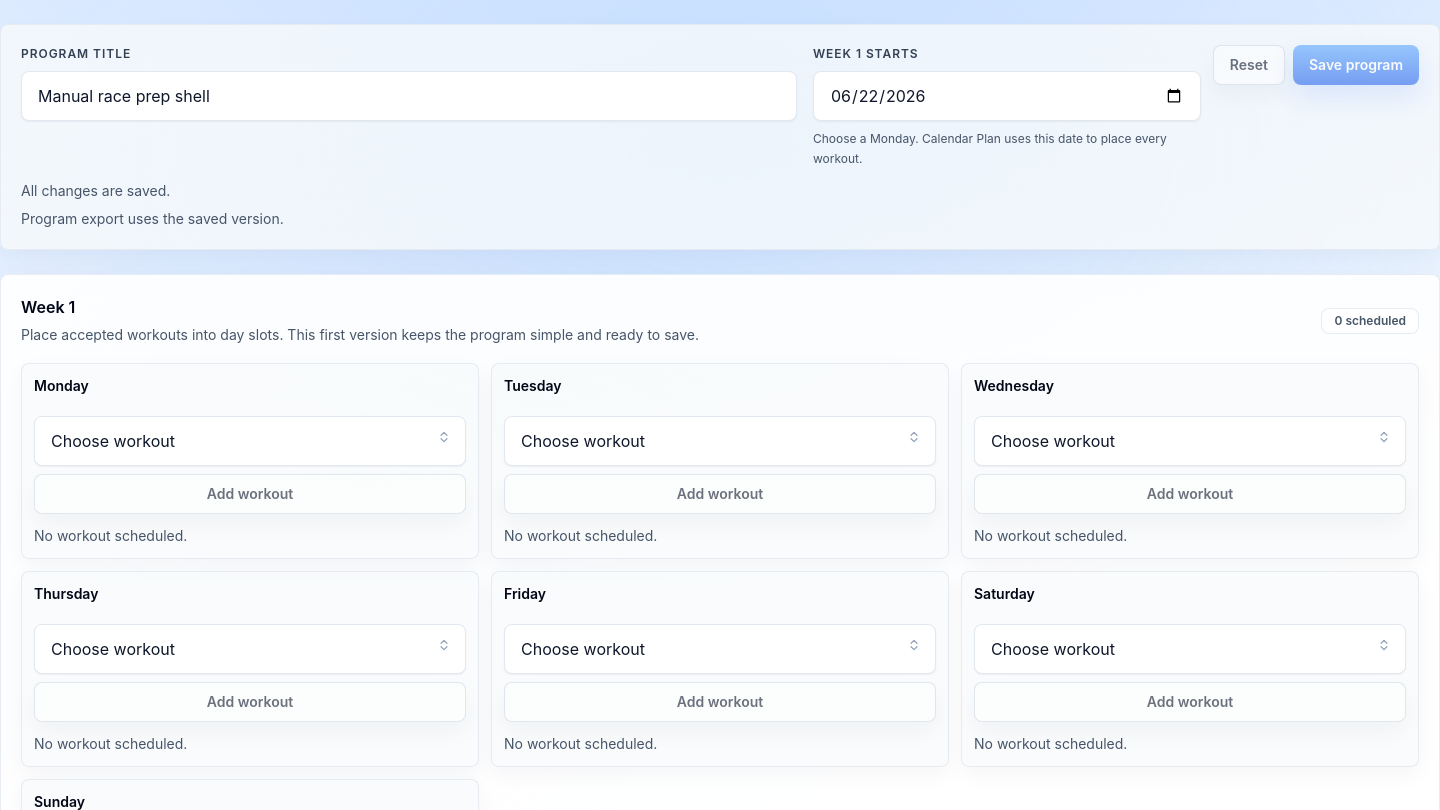
it: ProgramBuilderHub › announces program save failures without changing the save payload
Step 1. Replace the text in the field with test id "program-draft-title" with "Unsaved race prep shell" → (409, 96), box [21,71,797,121]
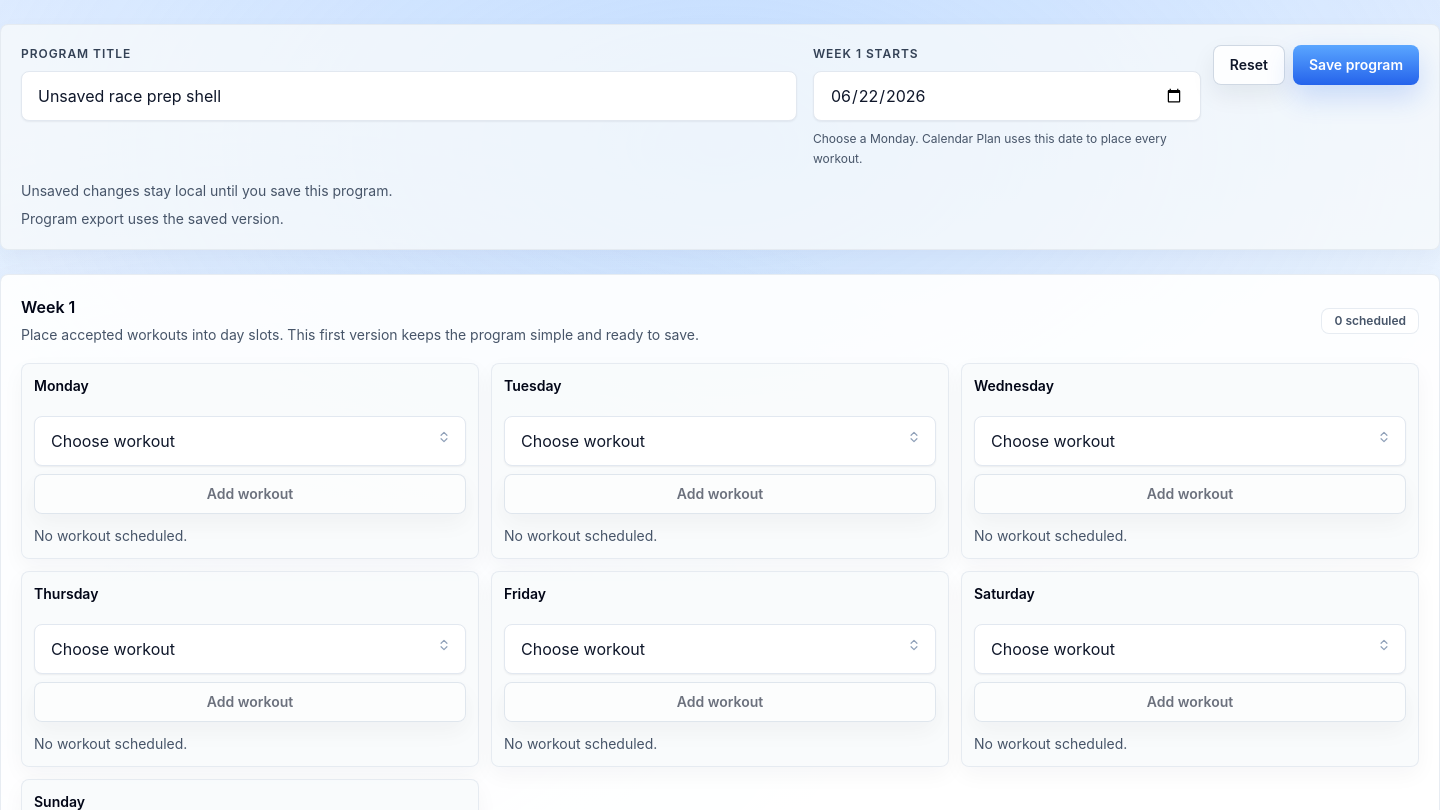
Step 2. Click the button with test id "program-builder-save" → (1356, 65), box [1293,45,1419,85]
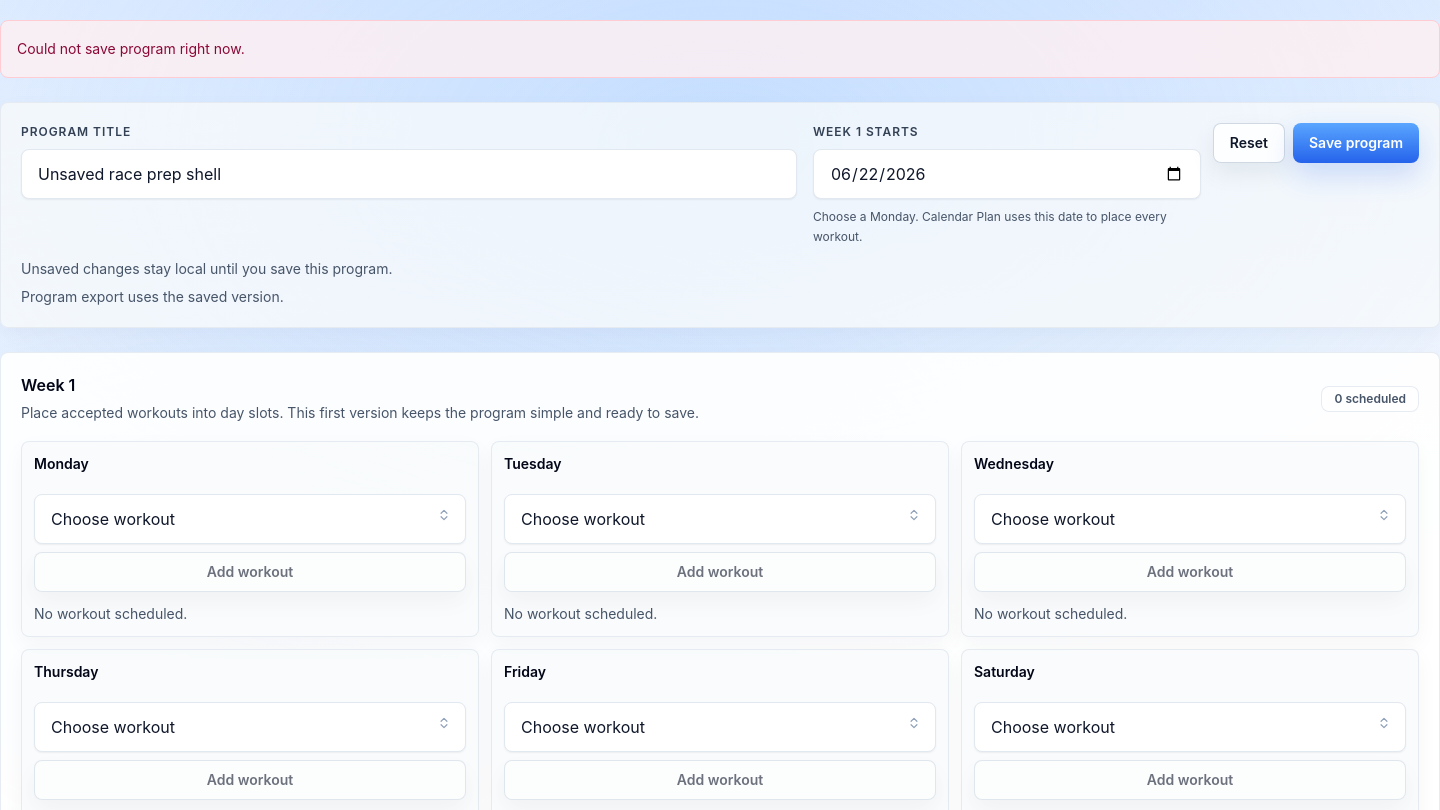
Now the message with test id "program-builder-action-error" reads "Could not save program right now.", box [17,40,245,57]
